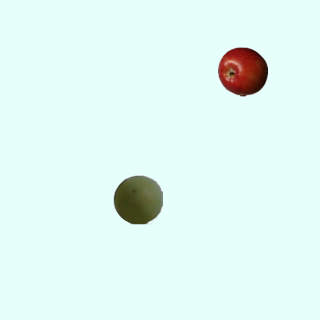Apple Braeburn: (217, 46, 267, 96)
Grape White 4: (112, 174, 162, 224)
